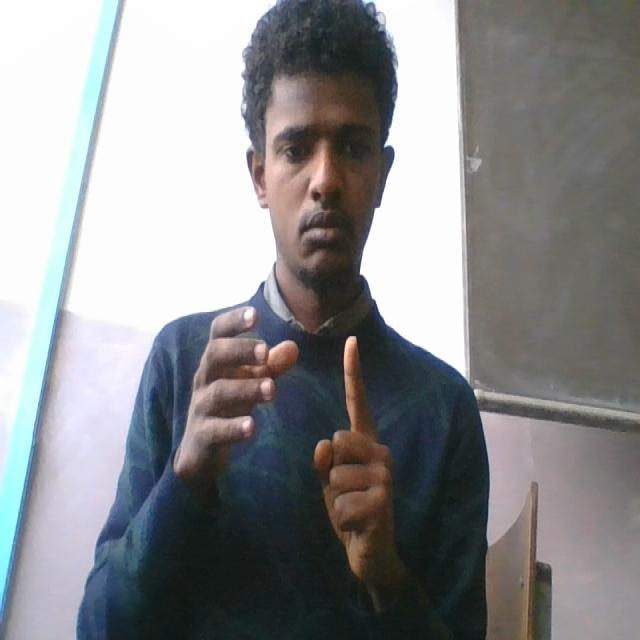melqeq: (176, 295, 411, 606)
